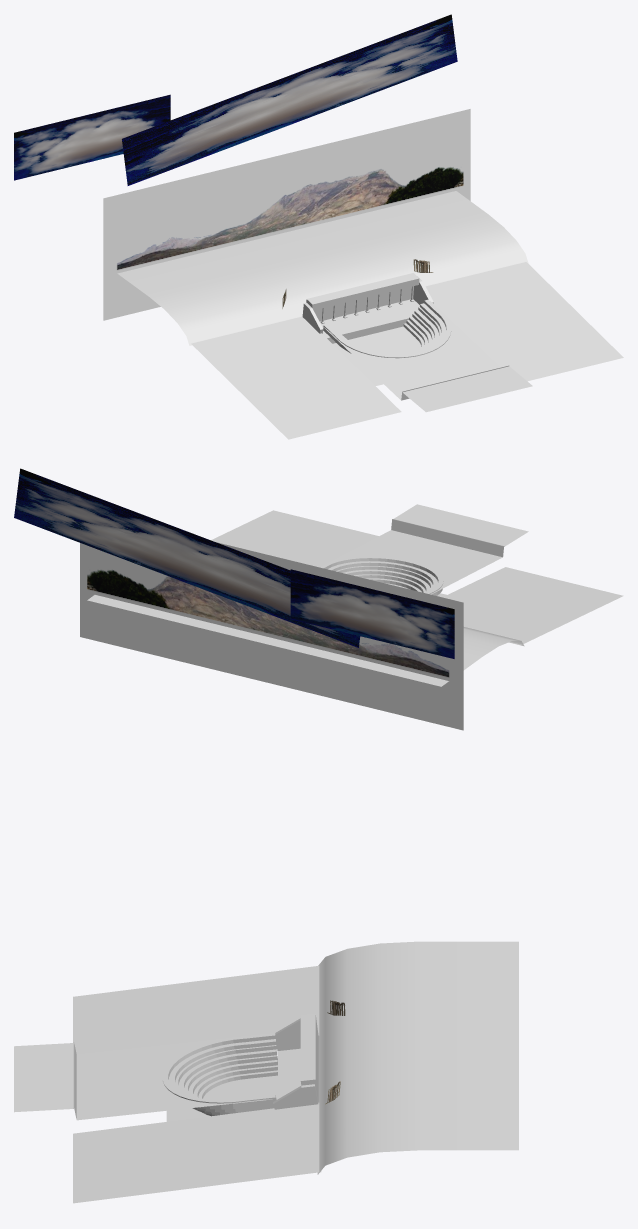
File: Greek_Arena.fbx
3 renders of one model, top to bottom at view 1: azimuth 30°, elevation 25°; view 2: azimuth 150°, elevation 25°; view 3: azimuth 270°, elevation 25°, orthographic. The views are drawn at different scales.
Visible parts, largest first — view 1: Collina, Montagne, Nuvola1, Pavimento, Palco, Spalti1, Arena; view 2: Montagne, Nuvola1, Collina, Pavimento, Spalti1; view 3: Collina, Pavimento, Spalti1, Palco, Arena.
Part boxes in pixels (x1,y1,x2,y2): Collina: [117, 191, 623, 439]; Montagne: [103, 109, 470, 320]; Nuvola1: [14, 14, 457, 185]; Pavimento: [323, 301, 532, 412]; Palco: [302, 273, 433, 343]; Spalti1: [323, 299, 451, 358]; Arena: [332, 326, 421, 386]; Montagne: [80, 542, 463, 730]; Nuvola1: [14, 468, 454, 658]; Collina: [87, 510, 623, 686]; Pavimento: [330, 504, 528, 594]; Spalti1: [319, 556, 443, 595]; Collina: [73, 941, 518, 1203]; Pavimento: [14, 1038, 272, 1120]; Spalti1: [162, 1033, 277, 1116]; Palco: [273, 1013, 318, 1109]; Arena: [166, 1075, 277, 1121].
Bounding box in the file's own units: 4038 × 1672 × 3907.
